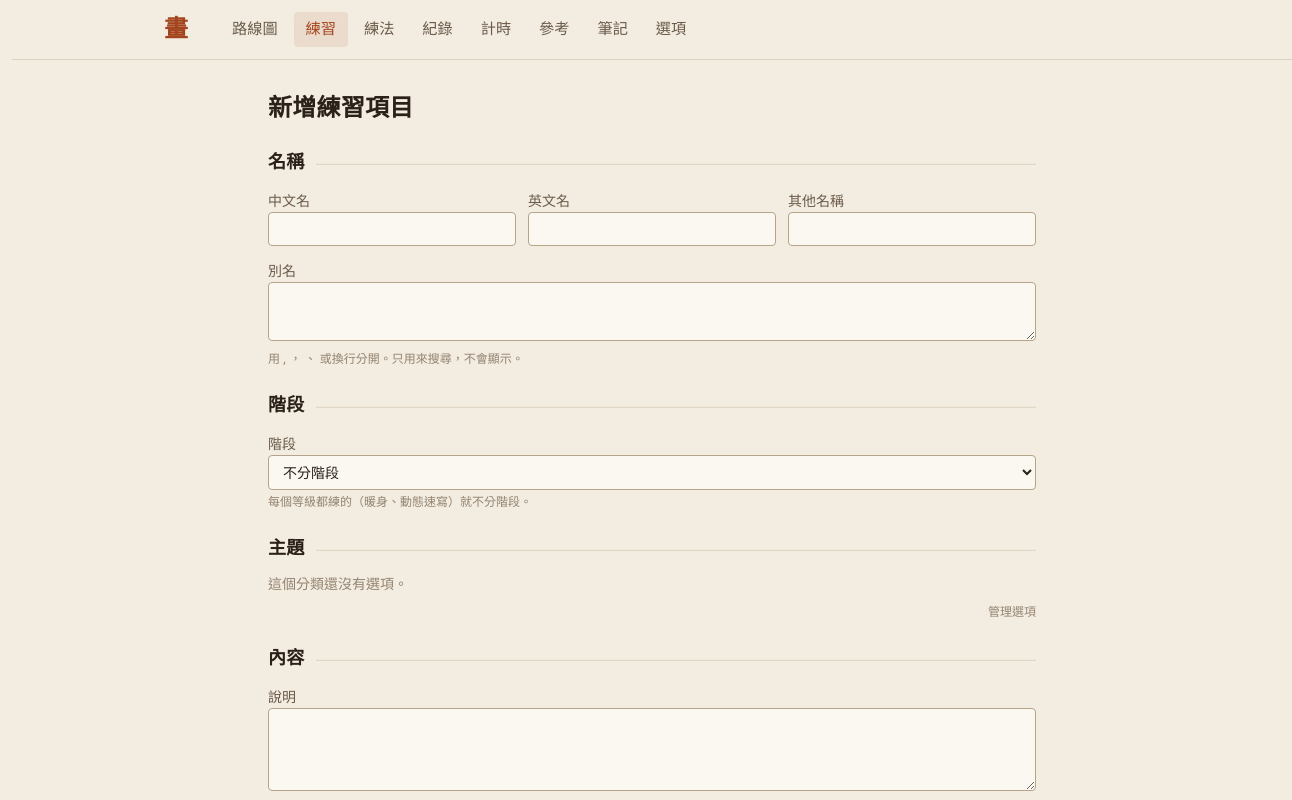
Scenario: the exercise form › sends the stage, topics and resources
Type " 陰影 " into the field labelled "中文名".
click(392, 229); type(" 陰影 ")  # box [268,212,516,246]
Type "shade、影" into the text box labelled "別名 用 , ， 、 或換行分開。只用來搜尋，不會顯示。".
click(652, 312); type("shade、影")  # box [268,282,1036,341]
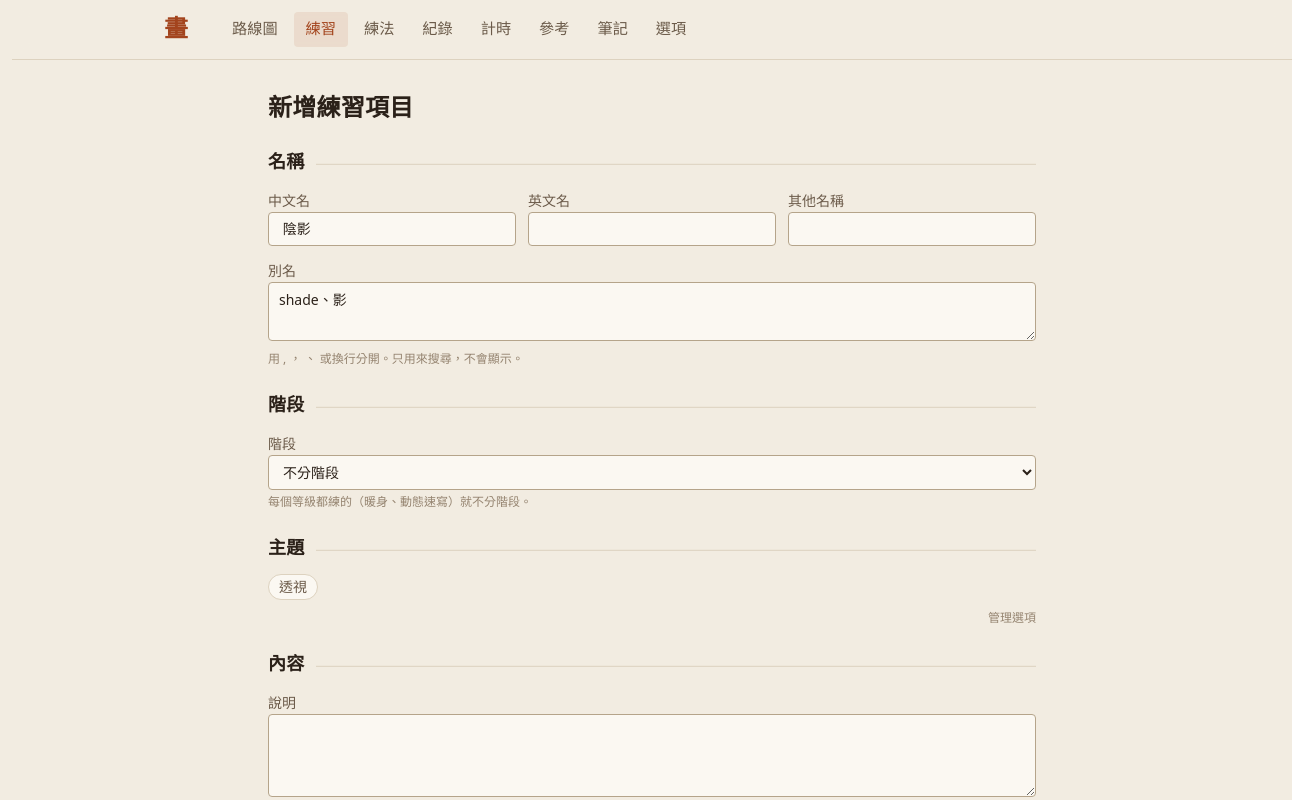
Select "階段 2 · 空間中的形體" in the dropdown labelled "階段 每個等級都練的（暖身、動態速寫）就不分階段。" at {"x": 652, "y": 473}, box [268,455,1036,490]
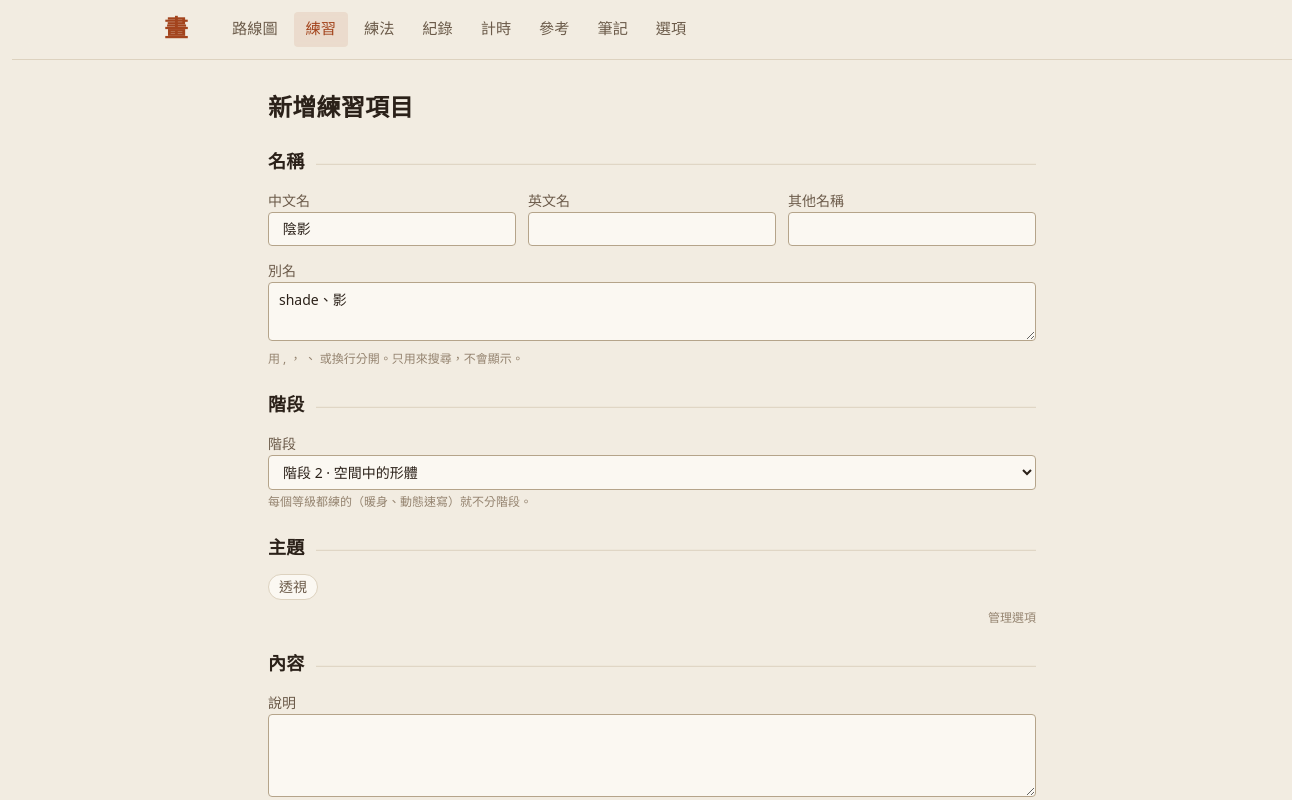
Click the button "透視".
click(293, 587)  # box [268,574,318,600]
(page scrolled)
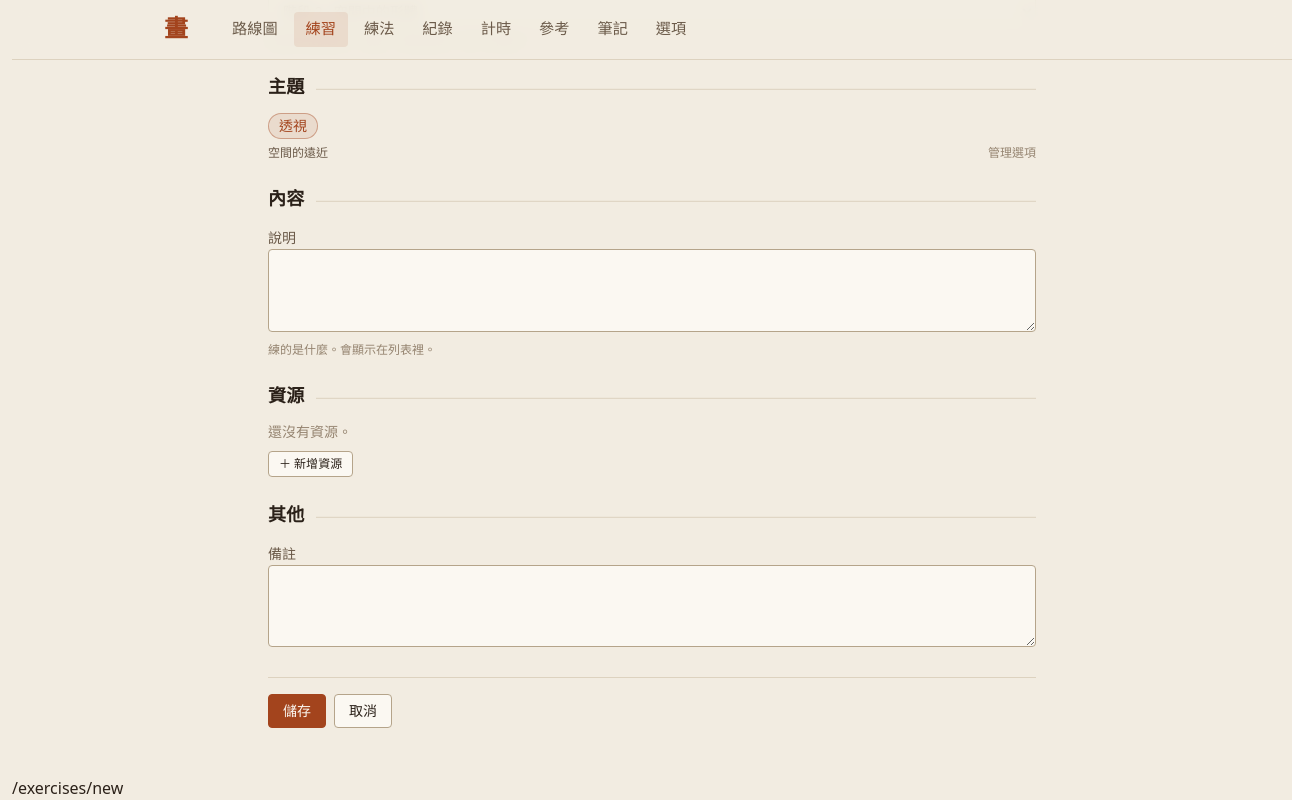
Click the button "＋ 新增資源".
click(311, 464)  # box [268,450,353,476]
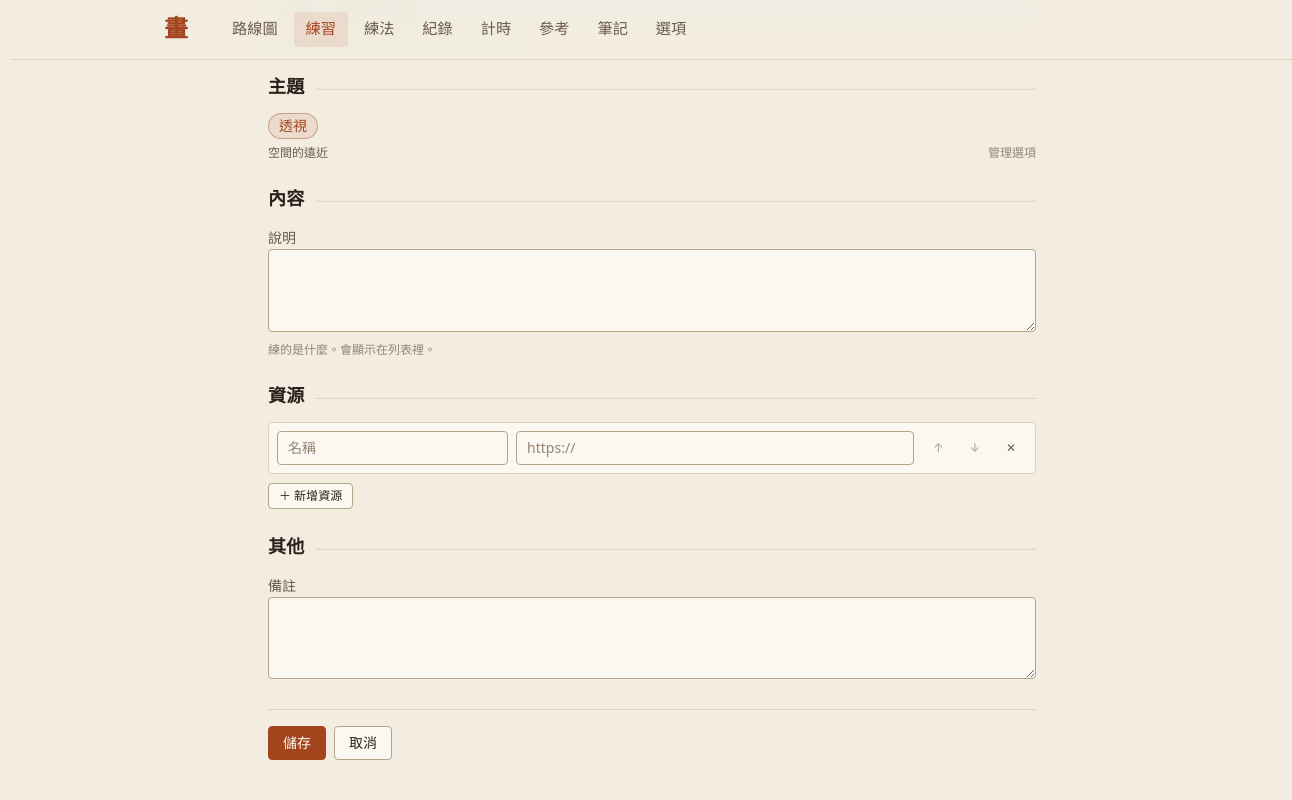
Type "https://s.example" into the field named "資源 1 連結".
click(715, 448); type("https://s.example")  # box [516,430,914,464]
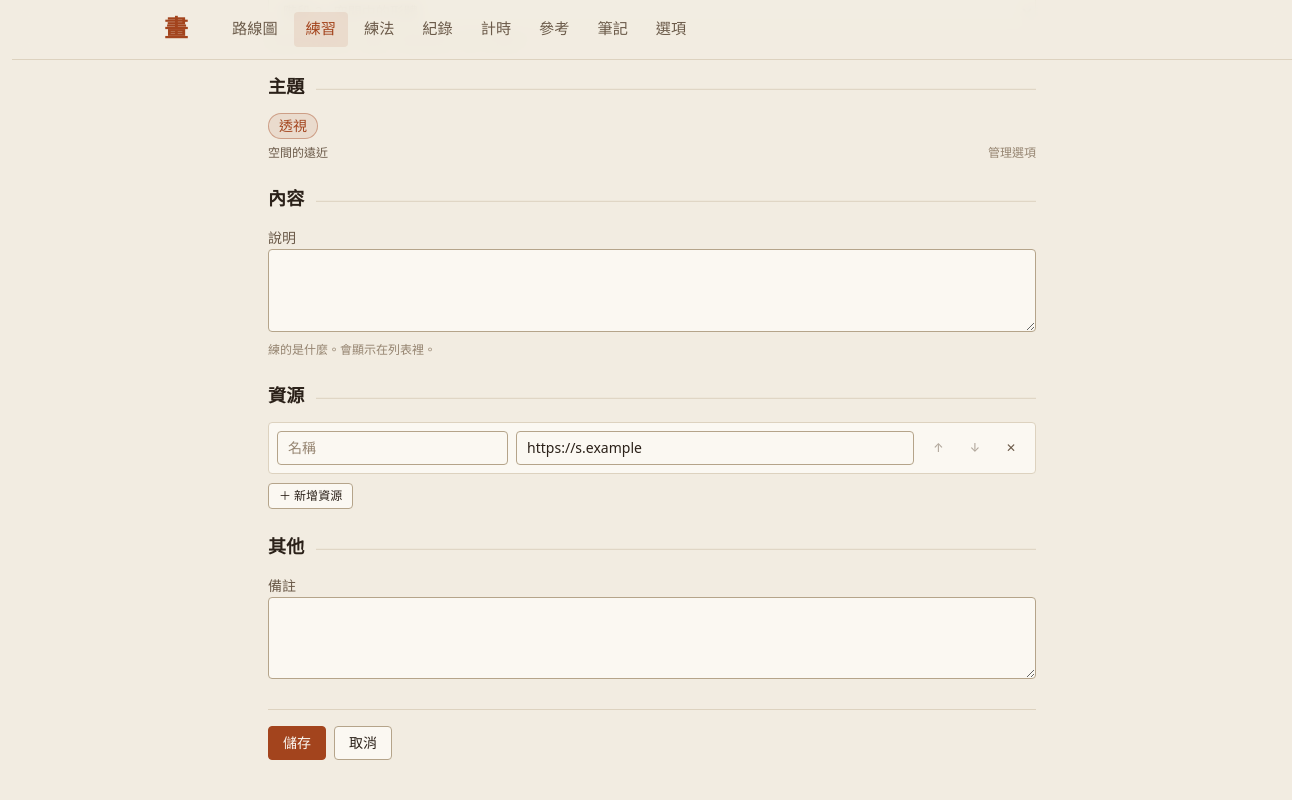
Click the button "儲存".
click(297, 743)  # box [268,726,326,760]
(page scrolled)
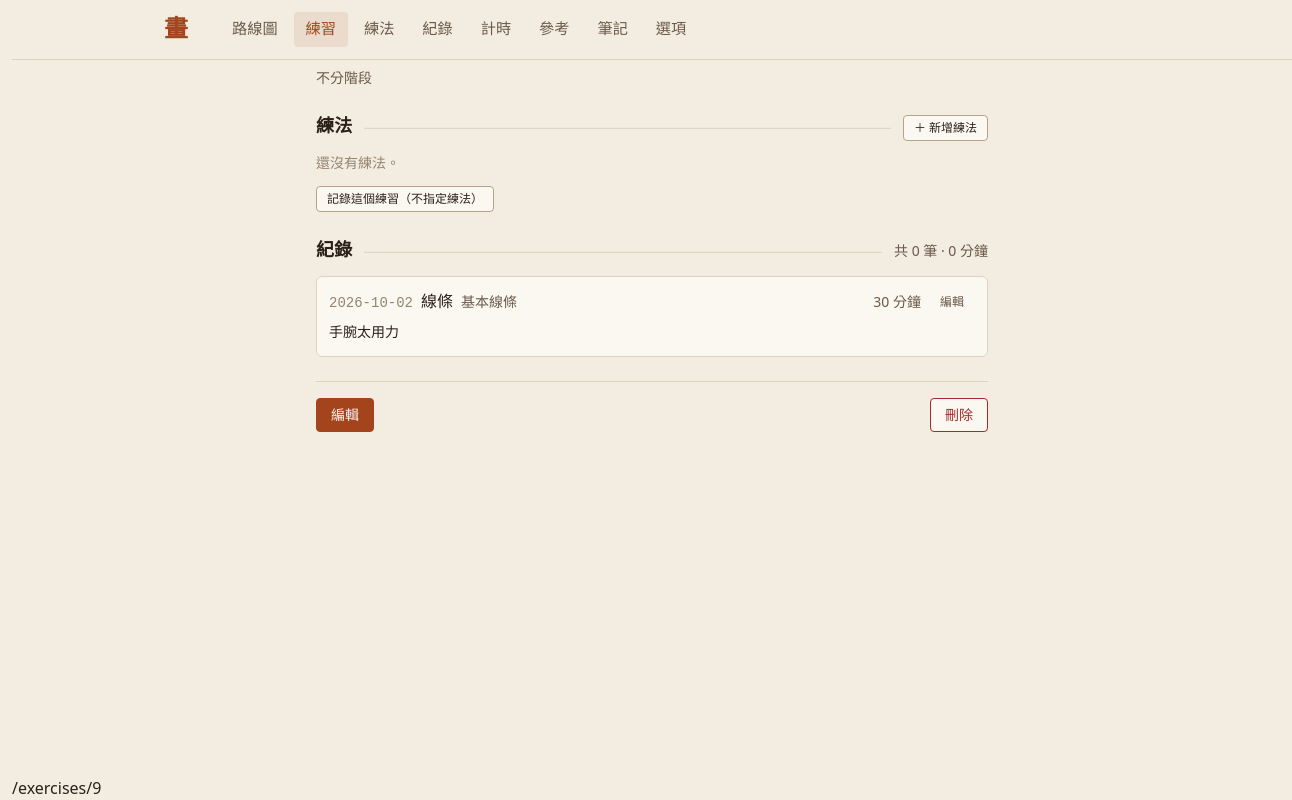
Result: the text with test id "location" reads "/exercises/9" at [12,777,101,799]
